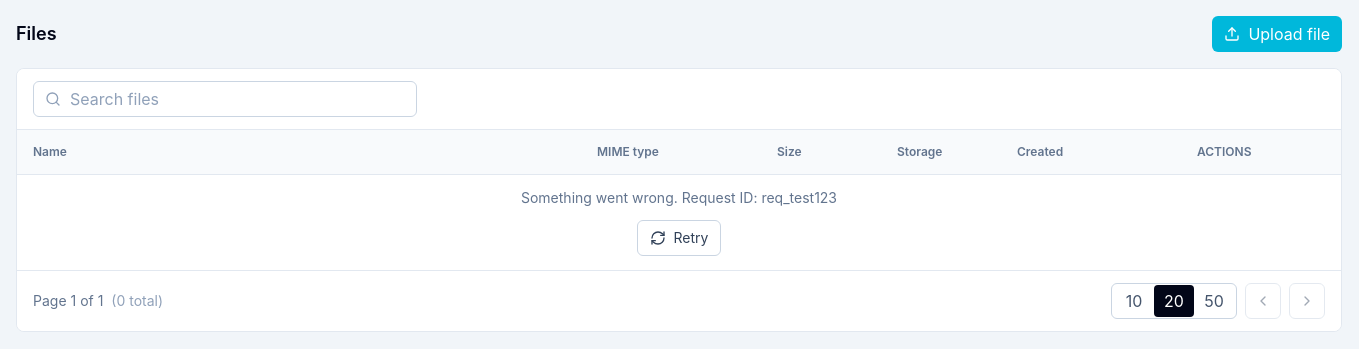
Scenario: FilesPage › renders an error state with retry
This screenshot has width=1359, height=349.
expect the text "Something went wrong. Request ID: req_test123" is shown: met, box [521,188,837,208]
Click the button "Retry" at [679, 238], box [636,220,721,256]
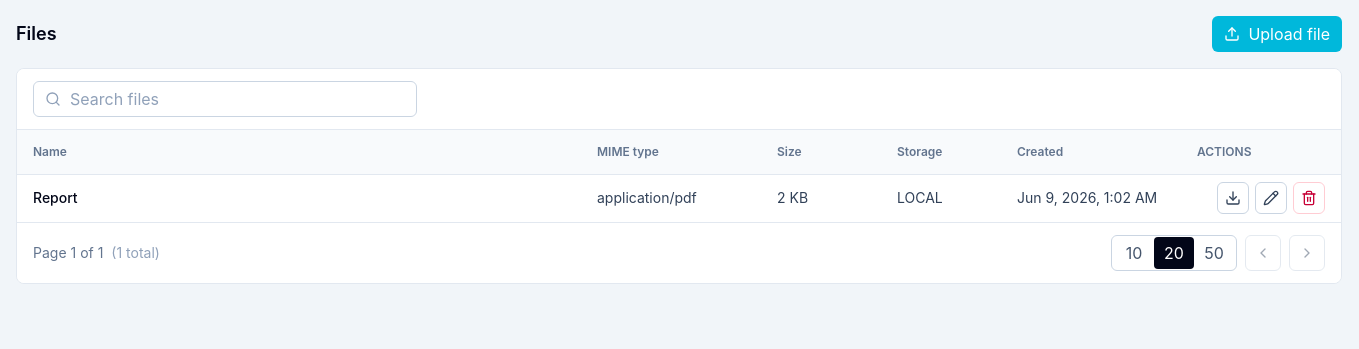
expect the text "Report" is shown: met, box [33,189,78,206]
